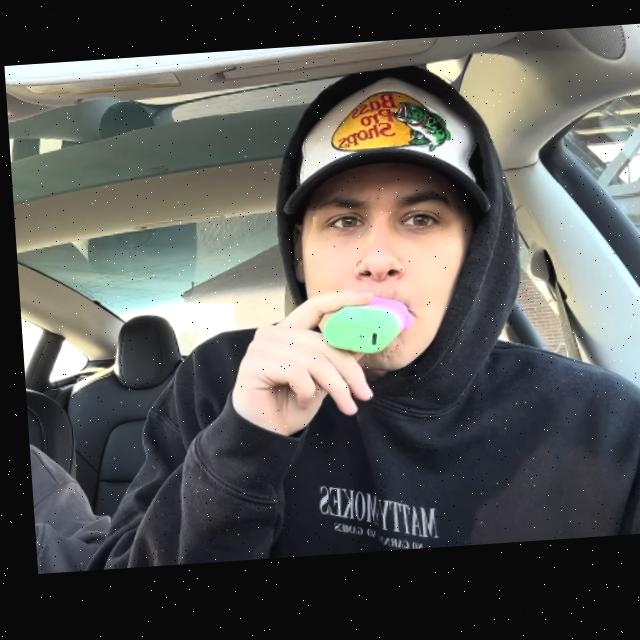vape: (316, 299, 410, 361)
